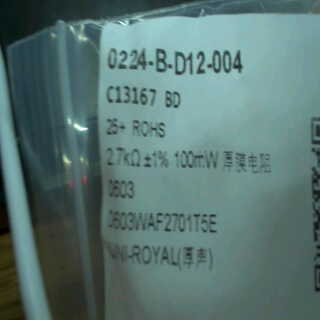2.7kR: (103, 146, 143, 167)
